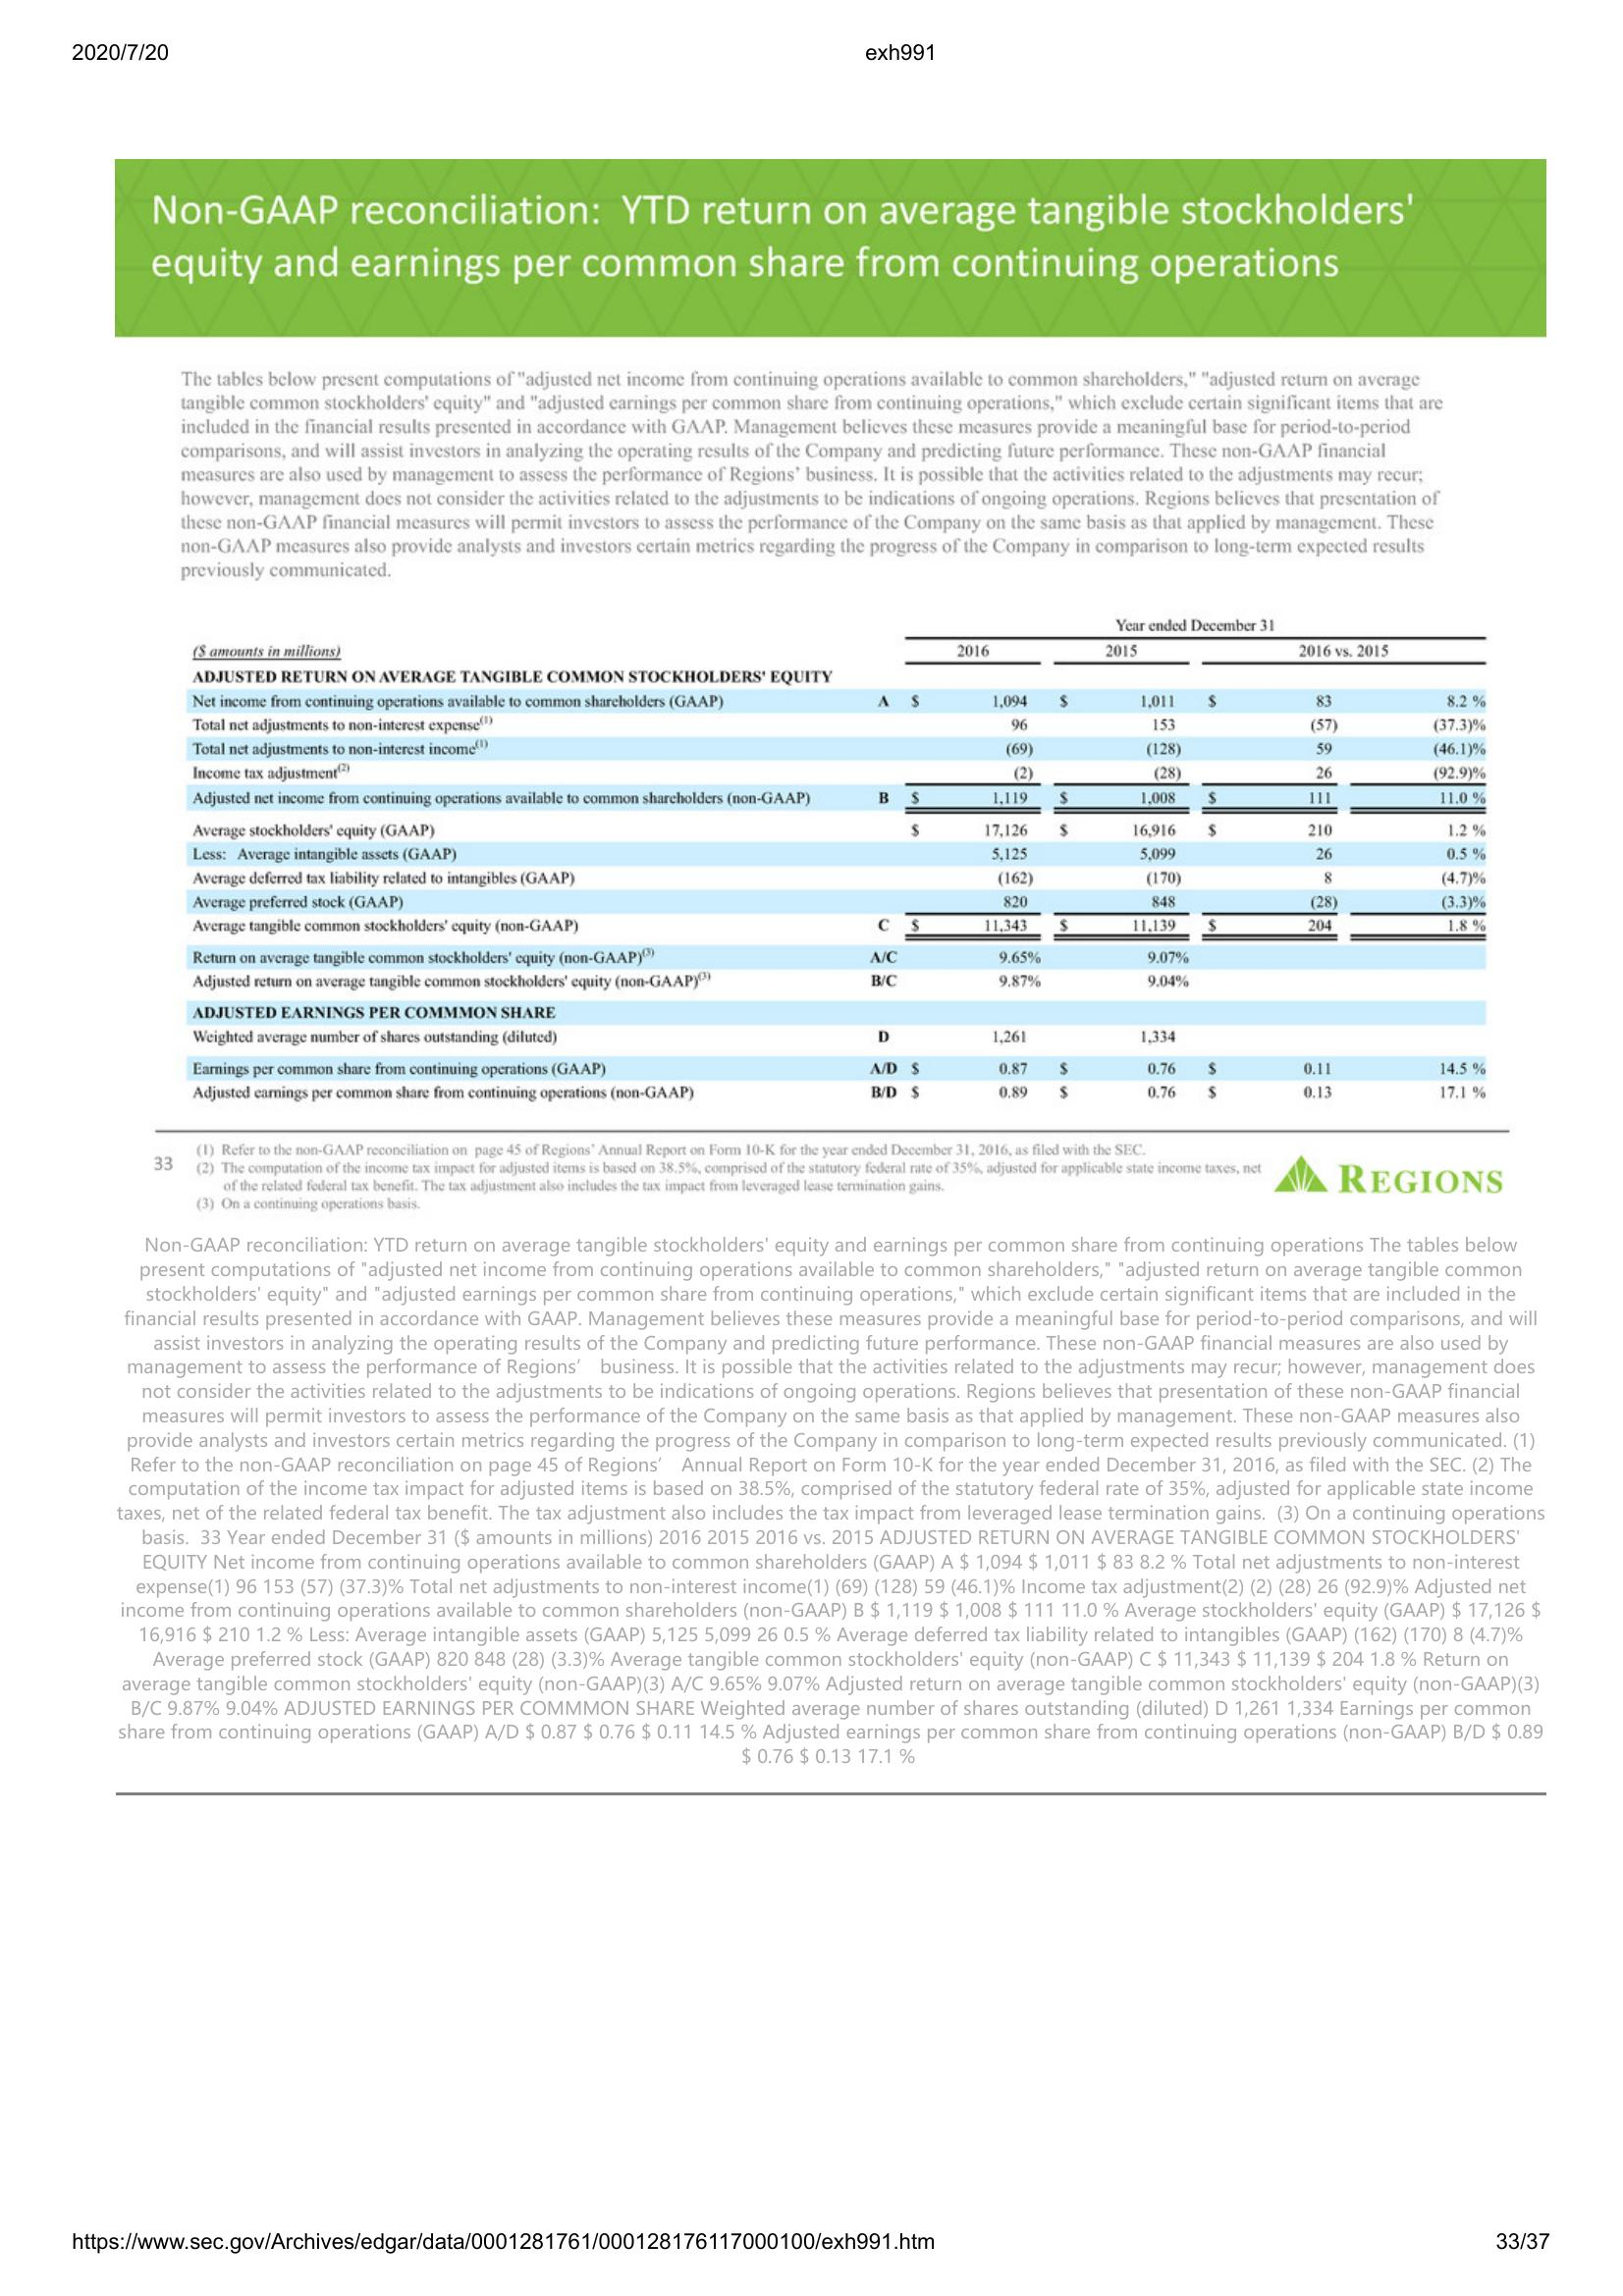table: (179, 614, 1504, 1120)
